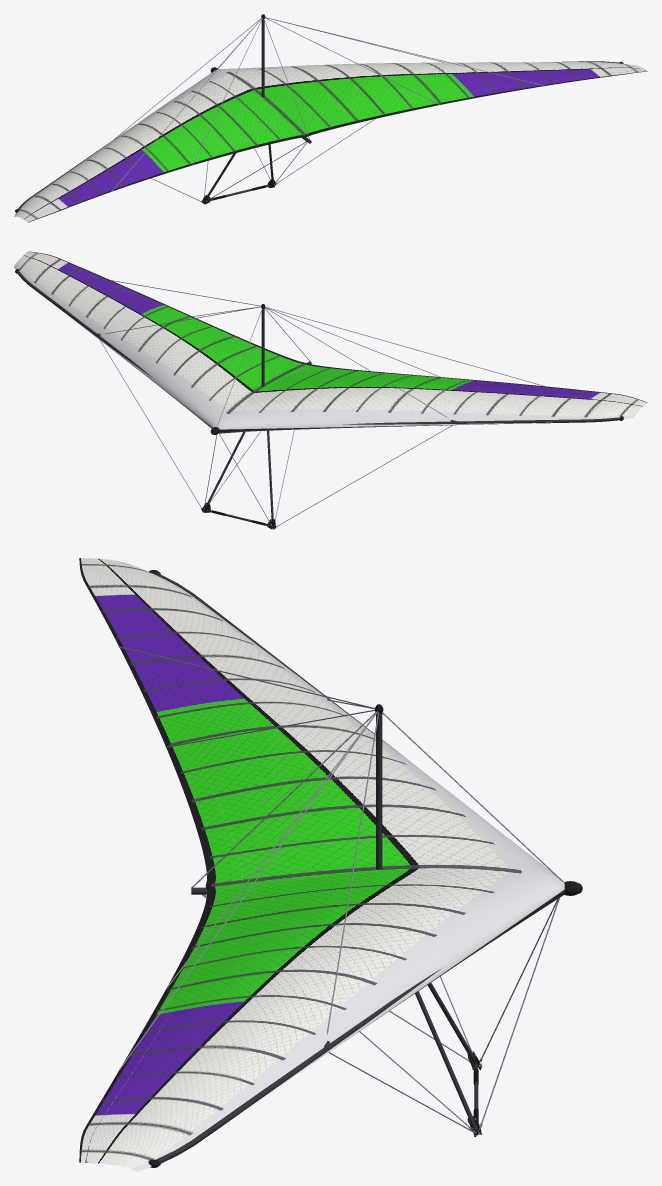
Rendered from glider_trike_ixess15.glb.
3 renders of one model, top to bottom at view 1: azimuth 30°, elevation 25°; view 2: azimuth 150°, elevation 25°; view 3: azimuth 270°, elevation 25°, orthographic. The views are drawn at different scales.
Parts seen in each view (by area): view 1: Sail, Frame, ControlFrame; view 2: Sail, Frame, ControlFrame; view 3: Sail, Frame, ControlFrame.
Part boxes in pixels (left/top/right/bottom): Sail: left=14, top=62, right=647, bottom=222; Frame: left=15, top=14, right=623, bottom=212; ControlFrame: left=151, top=119, right=374, bottom=204; Sail: left=14, top=251, right=647, bottom=433; Frame: left=15, top=269, right=623, bottom=434; ControlFrame: left=100, top=340, right=452, bottom=529; Sail: left=79, top=558, right=564, bottom=1171; Frame: left=119, top=570, right=582, bottom=1167; ControlFrame: left=202, top=894, right=560, bottom=1136.
Bounding box in the file's own units: 10 × 3.08 × 3.52.
Materials: 8 (1 with a texture image).
